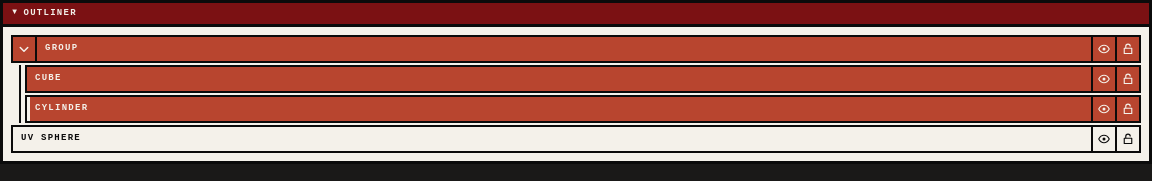
Scenario: Outliner › groups › locks and unlocks the whole folder from its row
Click the button named "Lock GROUP" at (1127, 49), box [1115, 37, 1139, 61]
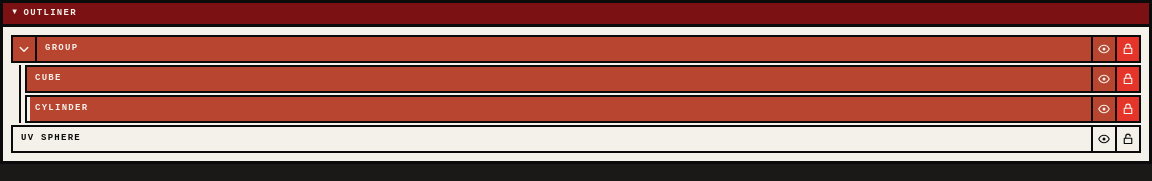
Expected: the button named "Unlock GROUP" is shown, [1115, 37, 1139, 61]
